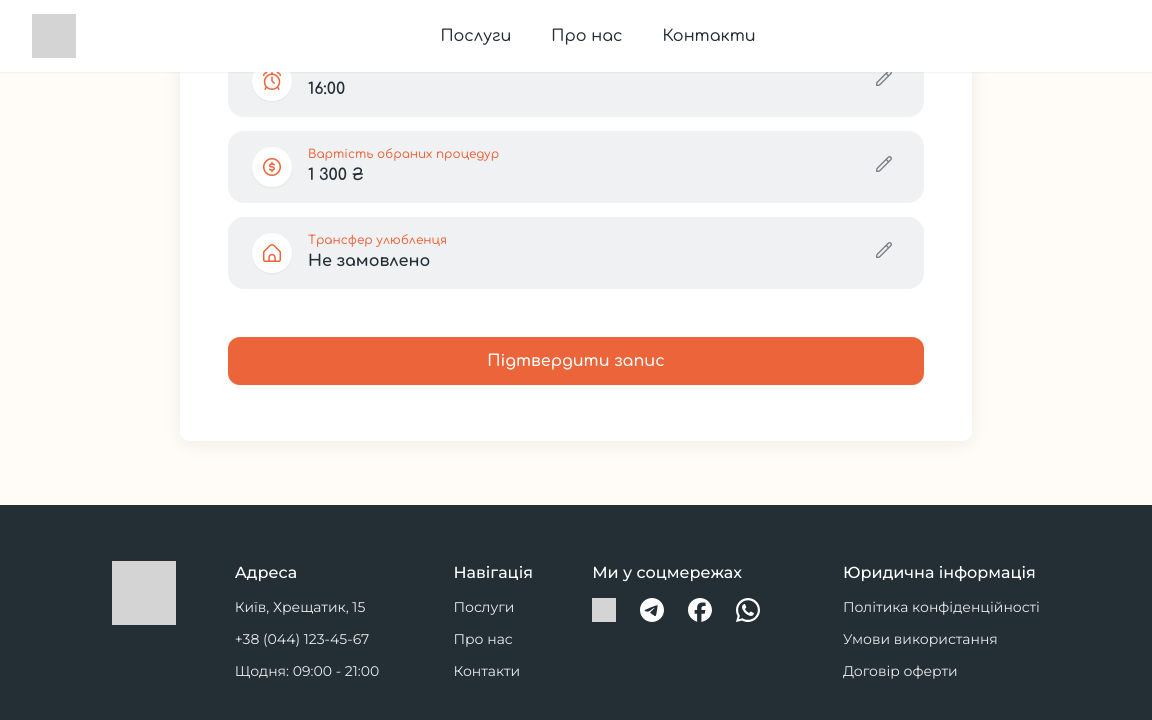
it: BookingPage › advances from confirmation to payment step
This screenshot has width=1152, height=720.
(page scrolled)
Click the button "Підтвердити запис" at (576, 361), box [228,337,924,385]
(page scrolled)
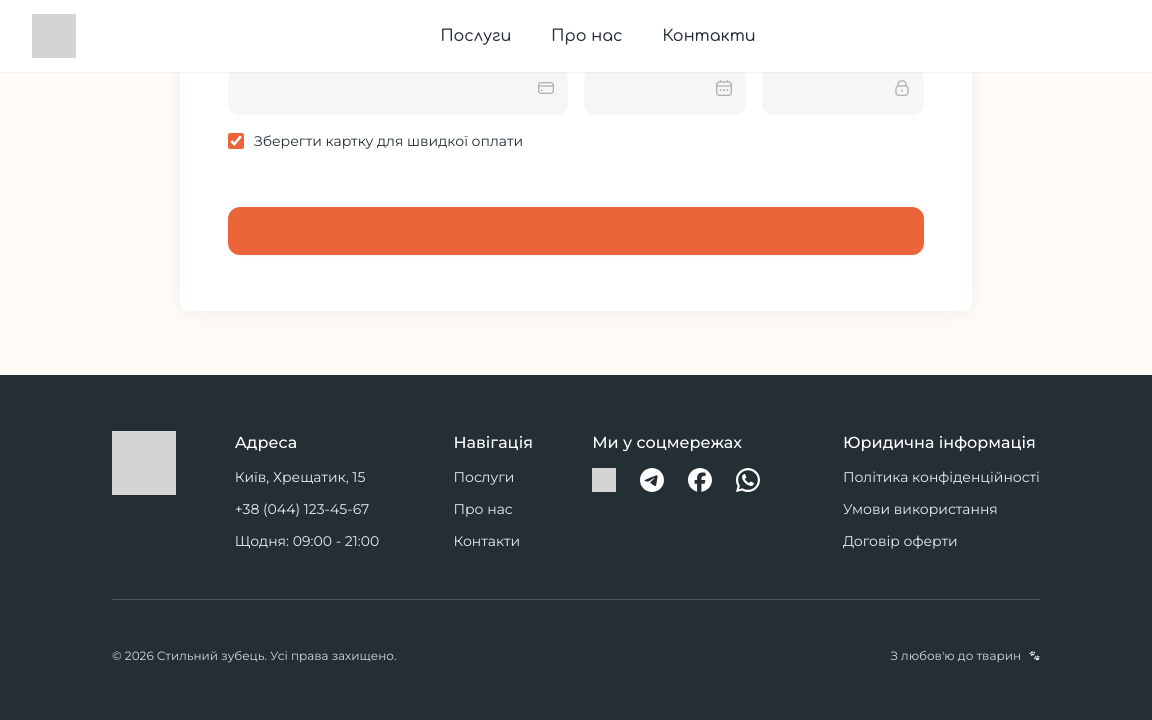
Now the button "Оплатити 0 ₴" is shown, box [228,207,924,255]
